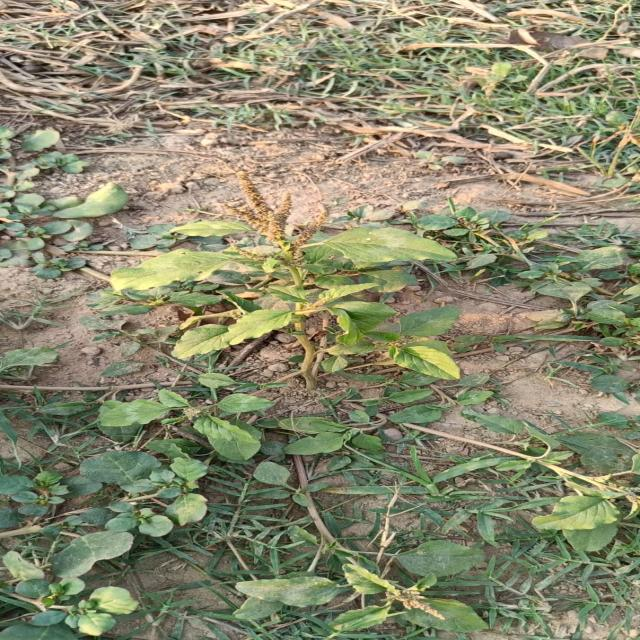plant: (98, 174, 460, 379)
